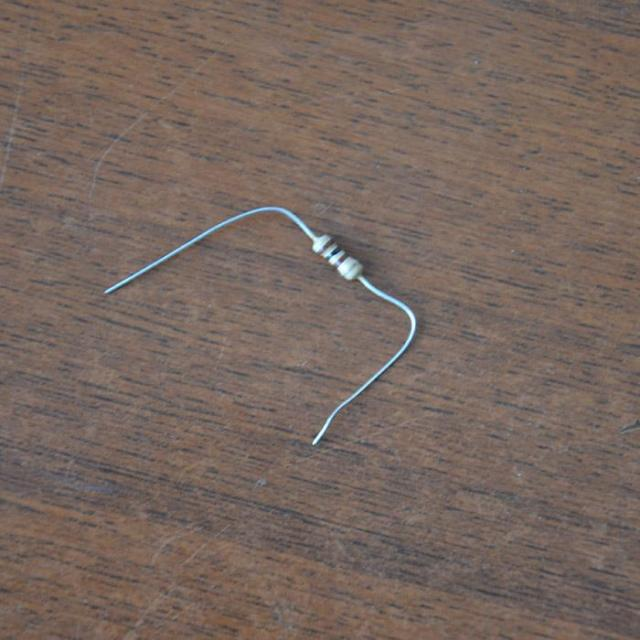Resistor: (106, 208, 416, 444)
